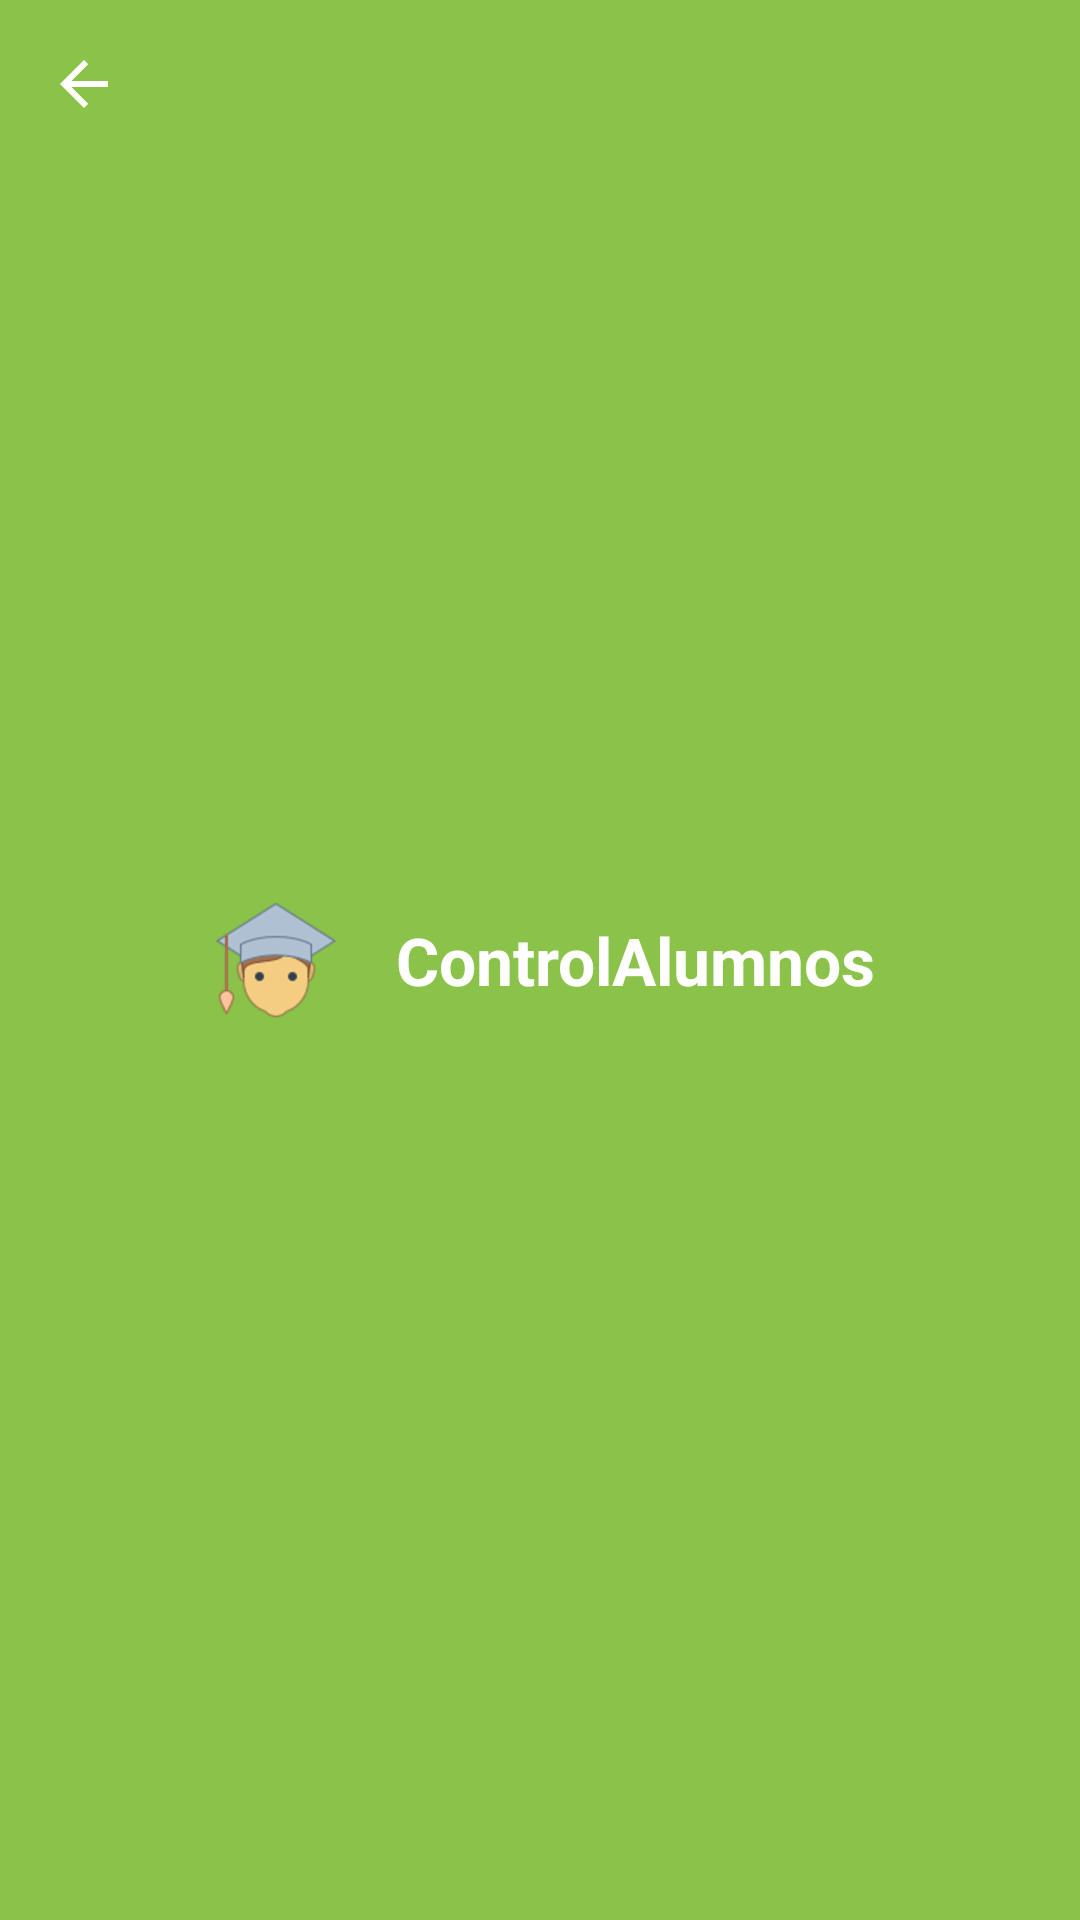

Point at icon controls on the screen. Image size 1080*1920, points as [x,y].
estudiante masculino: [276,960]
